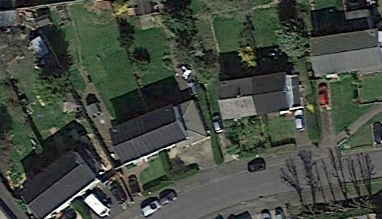tree: (267, 14, 313, 61), (123, 53, 154, 83), (106, 25, 141, 51)
